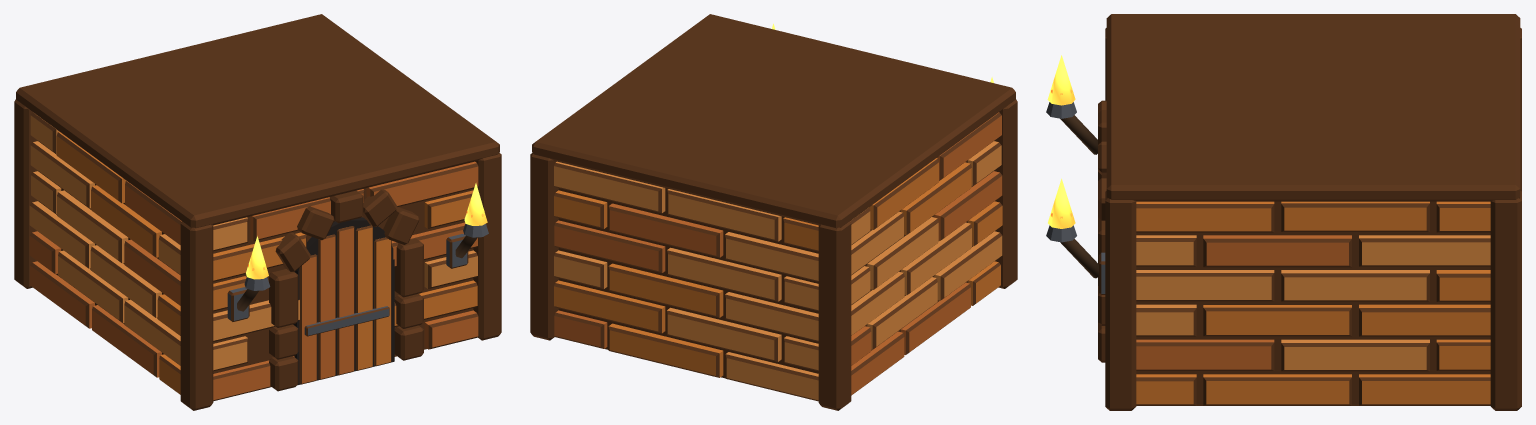
Rendered from block_wood_gate.glb.
The picture shows the model from 3 angles, left to right: view 1: azimuth 30°, elevation 25°; view 2: azimuth 150°, elevation 25°; view 3: azimuth 270°, elevation 25°; orthographic projection. The views are drawn at different scales.
Parts seen in each view (by area): view 1: WoodBodyGate; view 2: WoodBodyGate; view 3: WoodBodyGate.
Boxes of the visible parts, x1,y1,x2,y2 form: WoodBodyGate: [14, 14, 501, 410]; WoodBodyGate: [530, 14, 1017, 410]; WoodBodyGate: [1046, 14, 1521, 410].
Bounding box in the file's own units: 1.34 × 0.8 × 1.53.
